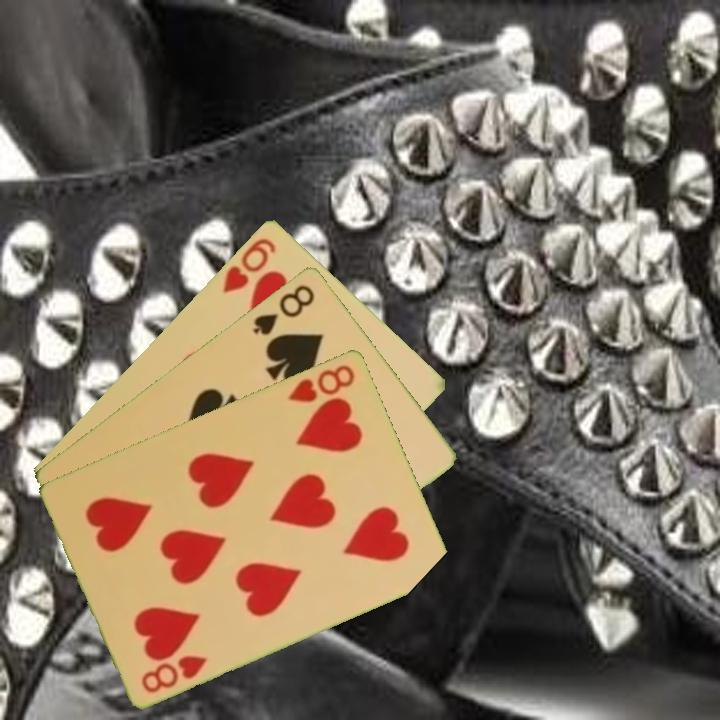6h: (219, 233, 279, 296)
8h: (284, 360, 358, 405), (137, 651, 211, 696)
8s: (249, 280, 318, 338)
